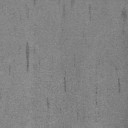red iron: (8, 42, 30, 76), (96, 77, 120, 104), (62, 0, 92, 21), (64, 54, 76, 92), (26, 0, 36, 19), (122, 8, 127, 34), (46, 98, 50, 108)
